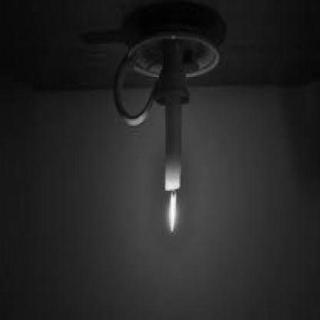Fire: (164, 187, 186, 241)
